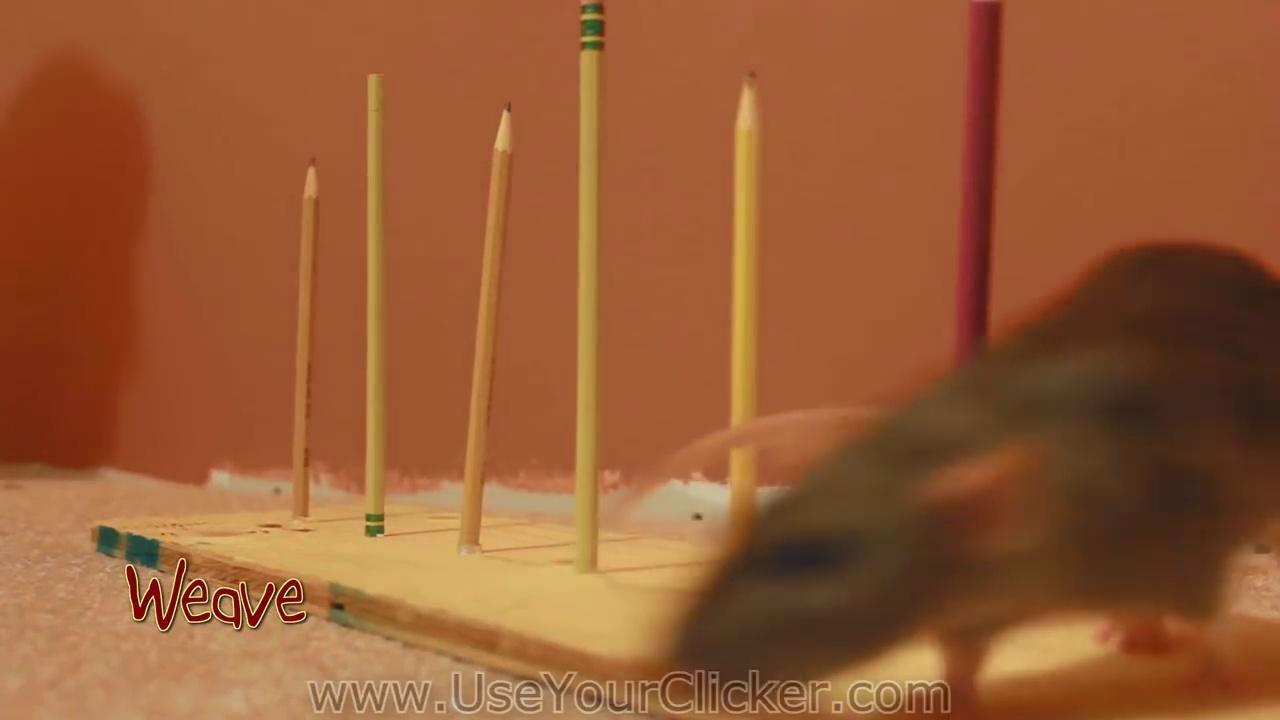rat: (621, 240, 1280, 720)
